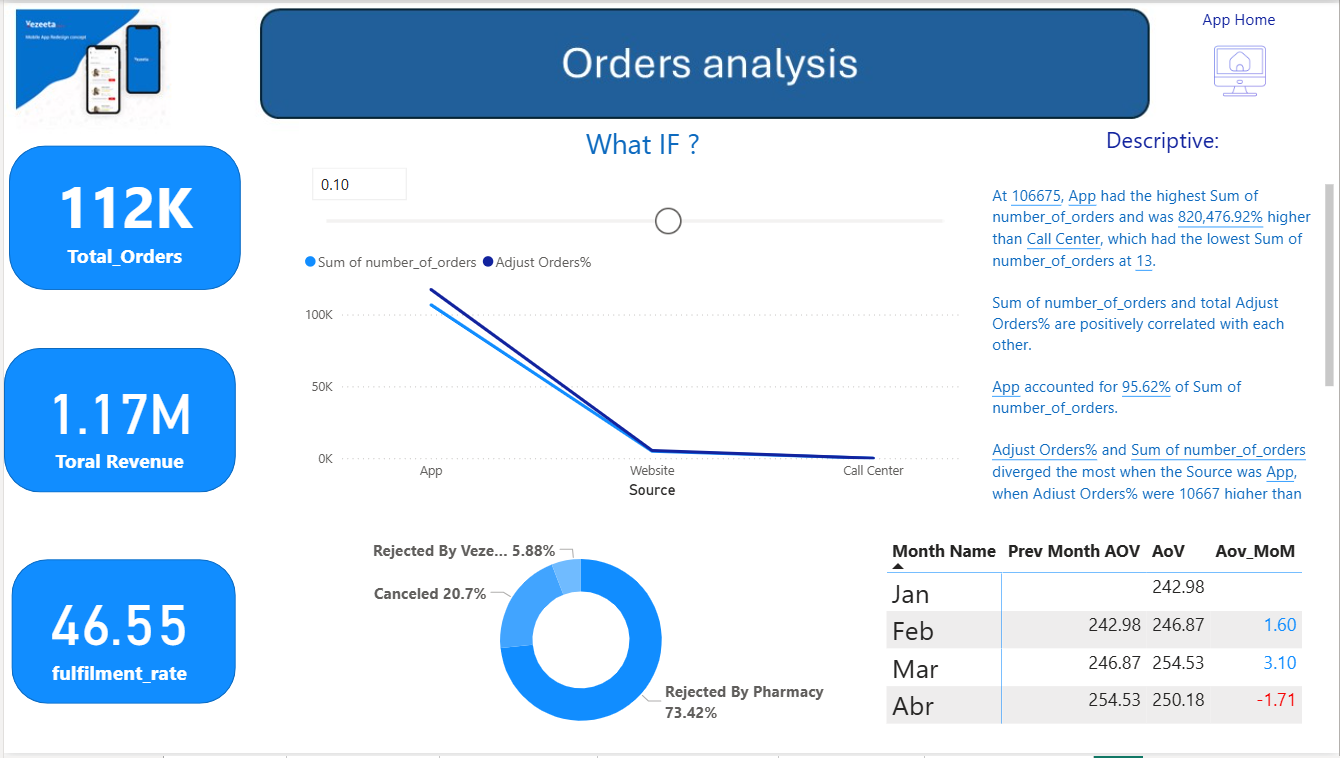

The dashboard page shown, as its layout file describes it:
{"tool":"powerbi","page":{"name":"Orders analysis ","canvas":[1280,720],"ordinal":1},"visuals":[{"type":"shape","box":[7.2,533.8,215,138.5],"z":0},{"type":"shape","box":[0,330.4,222.2,138.5],"z":1000},{"type":"shape","box":[4.3,137.1,222.2,138.5],"z":2000},{"type":"card","fields":{"Values":["Sum(totalorders.total_orders)"]},"box":[4.3,135.6,222.2,139.9],"z":3000},{"type":"lineChart","fields":{"Category":["source_orders.Source","OrderStates.Date.Variation.Date Hierarchy.Year","OrderStates.Date.Variation.Date Hierarchy.Quarter","OrderStates.Date.Variation.Date Hierarchy.Month","OrderStates.Date.Variation.Date Hierarchy.Day"],"Y":["Sum(source_orders.number_of_orders)","source_orders.Adjust Orders%"]},"box":[282.8,228,640.6,252.5],"z":4000},{"type":"card","fields":{"Values":["Sum(top_highest_product_revenue.amount)"]},"box":[7.2,330.4,207.8,138.5],"z":5000},{"type":"pivotTable","fields":{"Values":["Sum(aov_mom.prevAOV)","Sum(aov_mom.aov)","Sum(aov_mom.MOM_AOV_percentage)"],"Rows":["aov_mom.Month Name"]},"box":[841.1,506.4,438.6,207.8],"z":6000},{"type":"donutChart","fields":{"Category":["notfulfilment_top3.NotFulfilmentReason"],"Y":["Avg(notfulfilment_top3.NumberOfOrders)"]},"box":[282.8,506.4,541,207.8],"z":7000},{"type":"slicer","fields":{"Values":["adjusted orders(%).adjusted orders(%)"]},"box":[282.8,147.2,640.6,82.2],"z":8000},{"type":"textbox","box":[282.8,111.1,659.3,46.2],"z":9000},{"type":"textbox","box":[941.6,111.7,337.7,46.8],"z":10000},{"type":"card","fields":{"Values":["Sum(overall_fulfilment.fulfilment_rate)"]},"box":[15.9,533.8,190.4,138.5],"z":11000},{"type":"textbox","box":[942.1,168.8,337.6,311.6],"z":12000},{"type":"image","box":[1155.7,34.6,59.2,60.6],"z":12001},{"type":"textbox","box":[1123.9,0,124.1,34.6],"z":12002}]}

Visuals, with their boxes in screenshot pixels (x1, y1, x2, y2), scaled from the page's 1280x720 canvas onto the 1340x758 screenshot:
shape: 8:562:233:708
shape: 0:348:233:494
shape: 5:144:237:290
card - Sum(totalorders.total_orders): 5:143:237:290
lineChart - source_orders.Source x OrderStates.Date.Variation.Date Hierarchy.Year: 296:240:967:506
card - Sum(top_highest_product_revenue.amount): 8:348:225:494
pivotTable - Sum(aov_mom.prevAOV) x Sum(aov_mom.aov): 881:533:1339:752
donutChart - notfulfilment_top3.NotFulfilmentReason x Avg(notfulfilment_top3.NumberOfOrders): 296:533:862:752
slicer - adjusted orders(%).adjusted orders(%): 296:155:967:242
textbox: 296:117:986:166
textbox: 986:118:1339:167
card - Sum(overall_fulfilment.fulfilment_rate): 17:562:216:708
textbox: 986:178:1339:506
image: 1210:36:1272:100
textbox: 1177:0:1306:36
